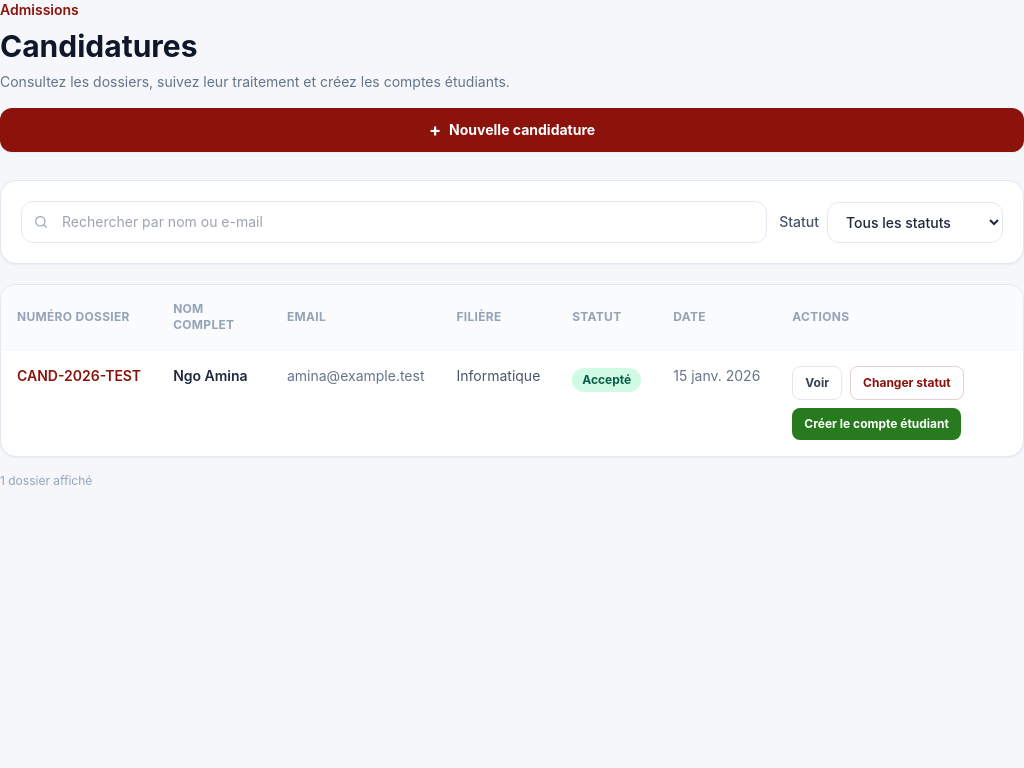
gestion des candidatures côté personnel › n’offre une relance que si le backend indique peutRelancer
The image size is (1024, 768).
Click the button "Voir". click: (817, 383)
box: [792,366,842,400]
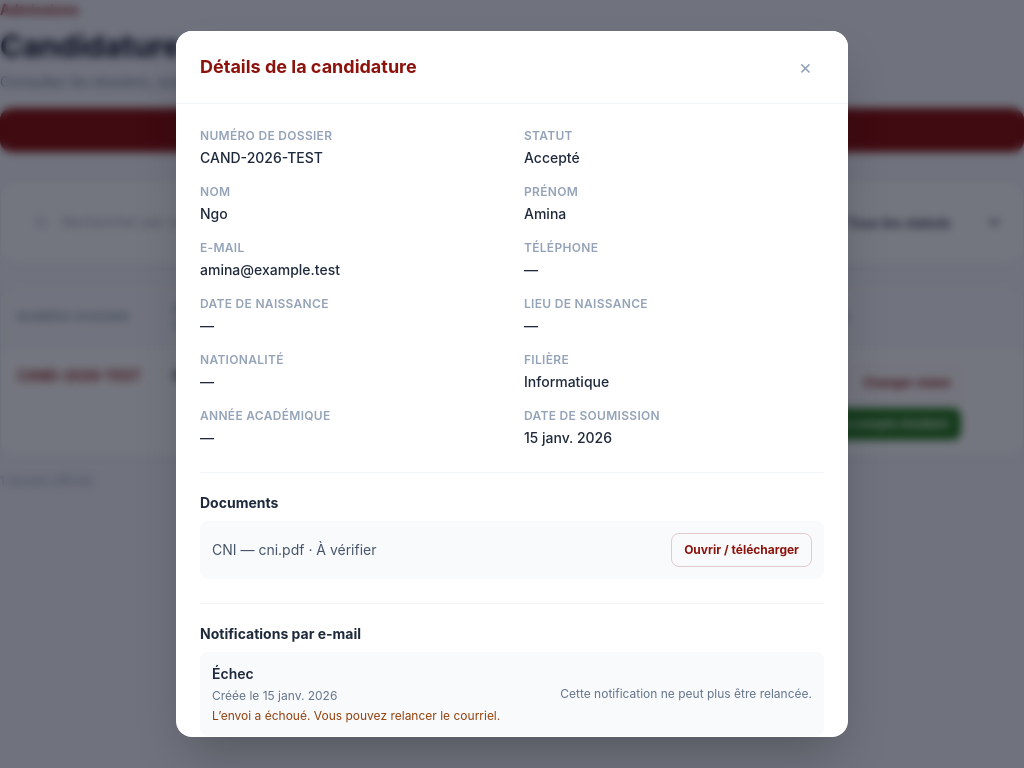
Now the button "Ouvrir / télécharger" is shown, box [671,533,812,567]
Now the text "Cette notification ne peut plus être relancée." is shown, box [560,686,812,702]
